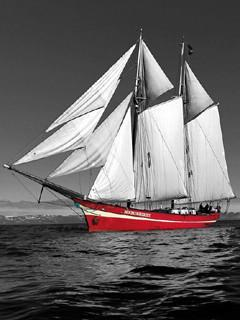fanchuan: (1, 24, 237, 235)
